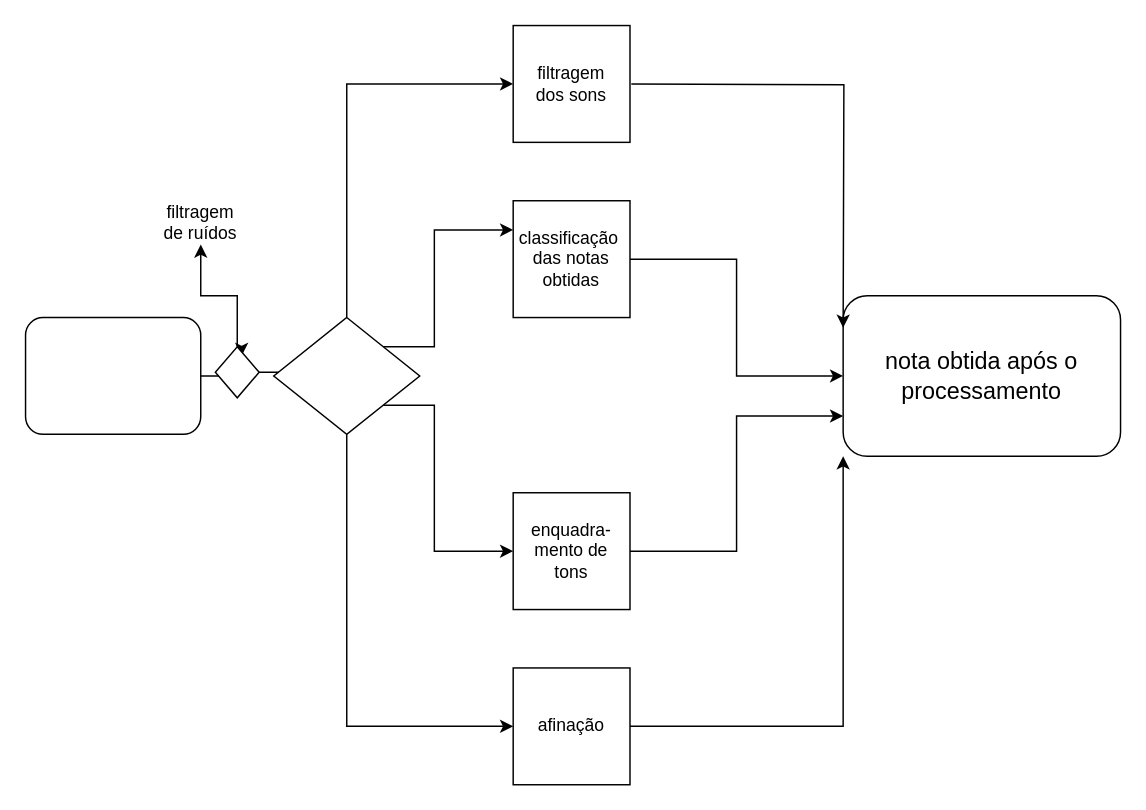
Some shapes in this 1146 by 810 pixel diagram are drawn without their labels. The centre of each missing label's shape, as x and y in pixels:
"input audio" belongs at point (112, 375).
"processamento" belongs at point (346, 375).
